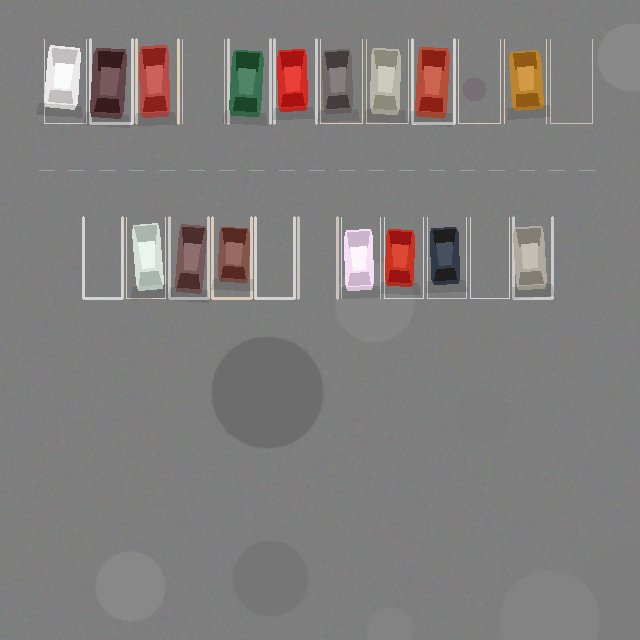space-empty: (182, 39, 224, 123), (458, 39, 500, 123), (550, 39, 592, 123), (83, 217, 122, 298), (255, 217, 294, 298), (298, 217, 337, 298), (470, 217, 509, 298)
space-occupied: (44, 39, 86, 123), (90, 39, 132, 123), (136, 39, 178, 123), (228, 39, 270, 123), (274, 39, 316, 123), (320, 39, 362, 123), (366, 39, 408, 123), (412, 39, 454, 123), (504, 39, 546, 123), (126, 217, 165, 298), (169, 217, 208, 298), (212, 217, 251, 298), (341, 217, 380, 298), (384, 217, 423, 298), (427, 217, 466, 298), (513, 217, 552, 298)
